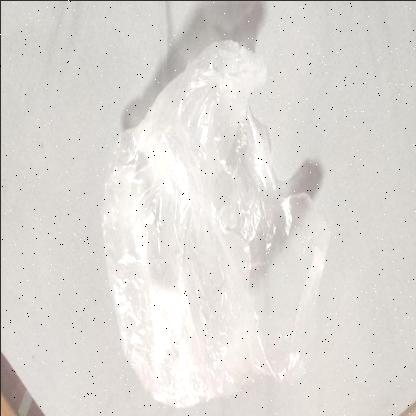Others: (98, 36, 335, 408)
